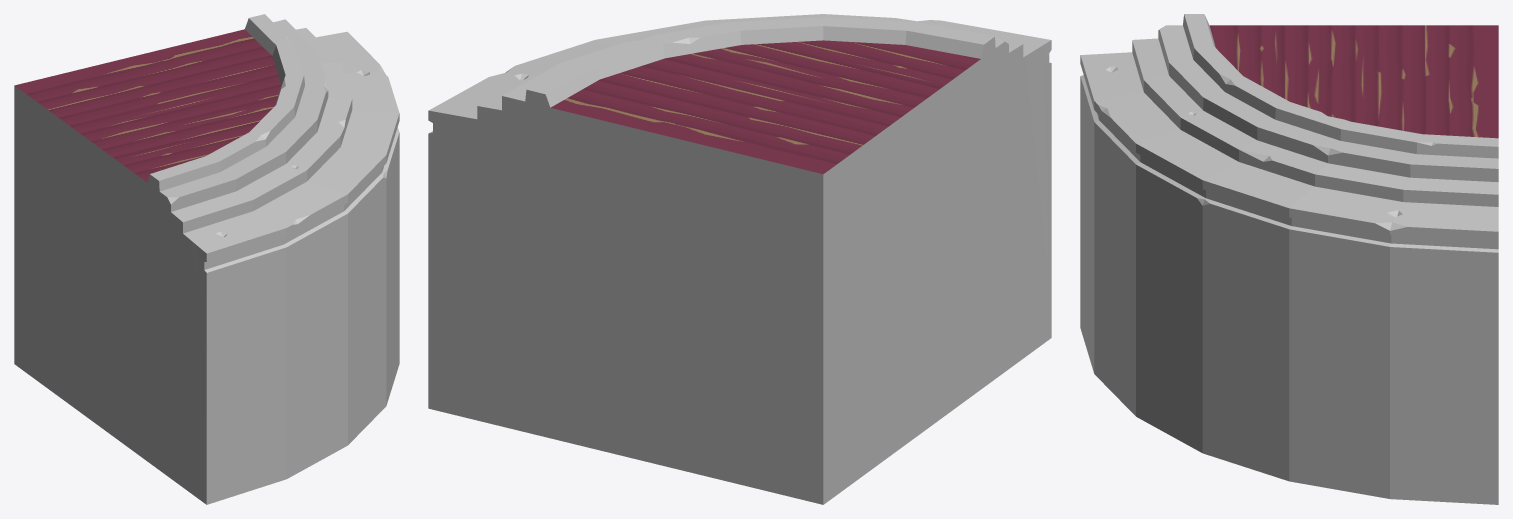
Rendered from SM_Bld_Shrine_Corner_Out_01.fbx.
3 views of the same model, side by side, from view 1: azimuth 30°, elevation 25°; view 2: azimuth 150°, elevation 25°; view 3: azimuth 270°, elevation 25° (orthographic). The views are drawn at different scales.
Parts seen in each view (by area): view 1: SM_Bld_Shrine_Corner_Out_01; view 2: SM_Bld_Shrine_Corner_Out_01; view 3: SM_Bld_Shrine_Corner_Out_01.
Boxes of the visible parts, x1,y1,x2,y2 form: SM_Bld_Shrine_Corner_Out_01: [14, 14, 399, 504]; SM_Bld_Shrine_Corner_Out_01: [428, 14, 1051, 504]; SM_Bld_Shrine_Corner_Out_01: [1080, 14, 1498, 504].
Size of the model in its own units: 724 by 600 by 723.
